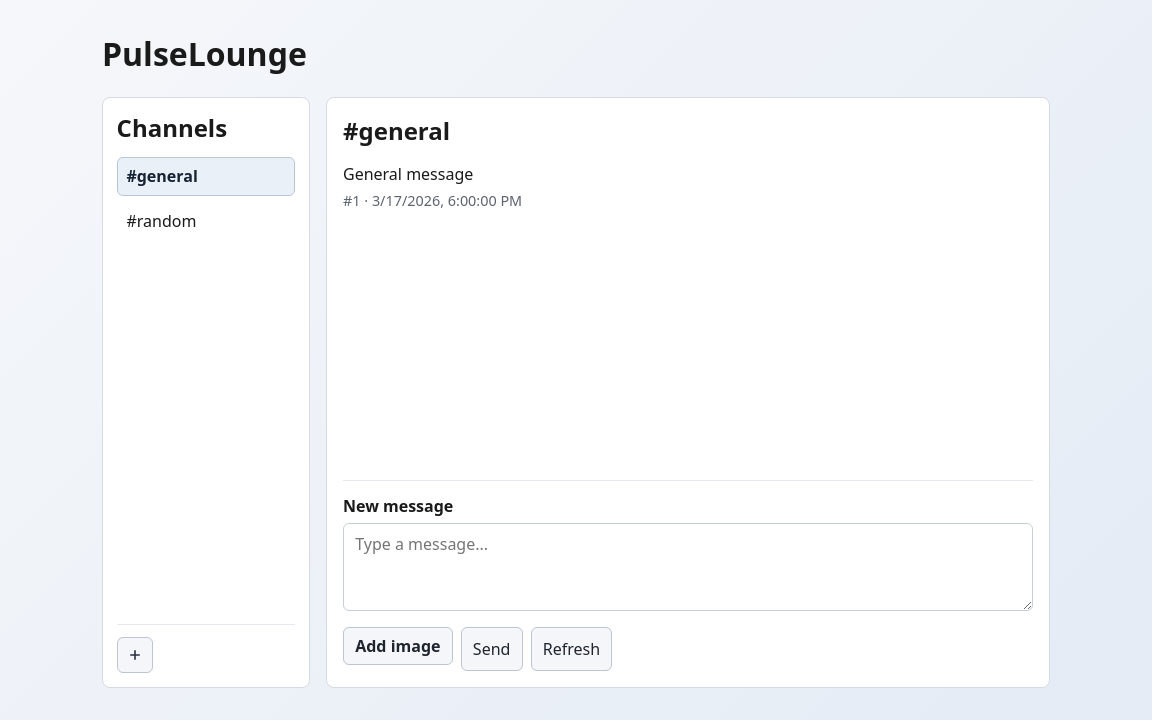
Test: App › loads messages for the selected channel
Expected: the text "General message" is shown, [343,163,473,185]
Click the button "#random" at (190, 221), box [118,202,262,239]
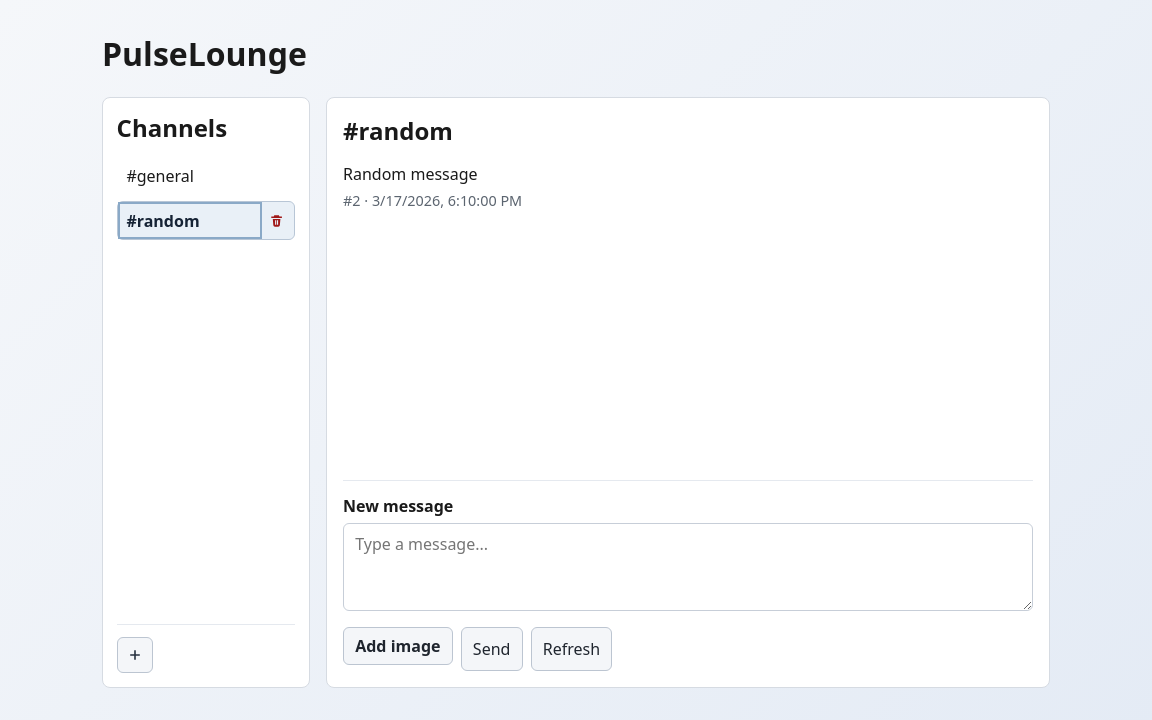
Result: the text "Random message" is shown at [343,163,478,185]
Result: the heading "#random" is shown at [343,114,453,147]
